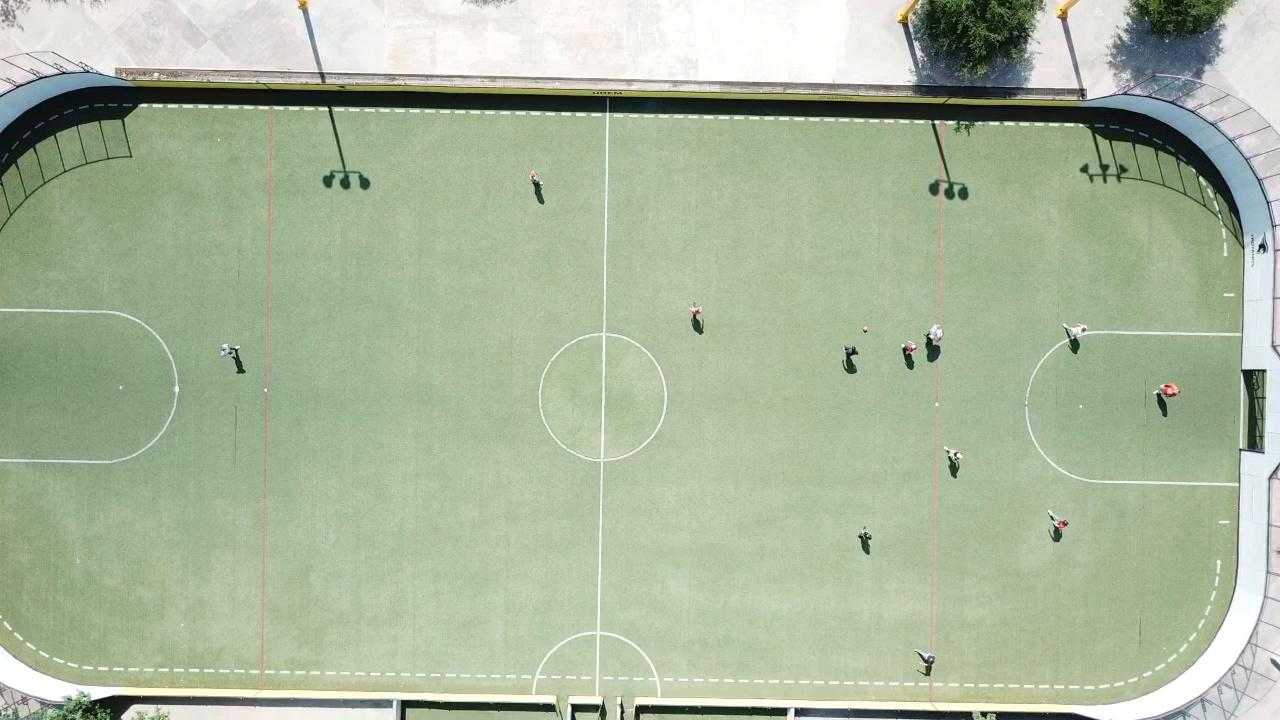ball: (863, 326, 868, 332)
player: (1047, 510, 1068, 531), (1063, 322, 1088, 339), (1153, 381, 1181, 396), (926, 324, 944, 346), (942, 445, 964, 463), (914, 649, 935, 666), (221, 343, 240, 357), (843, 345, 858, 359), (529, 169, 542, 185), (903, 341, 917, 355), (859, 526, 871, 542), (689, 304, 702, 315)
